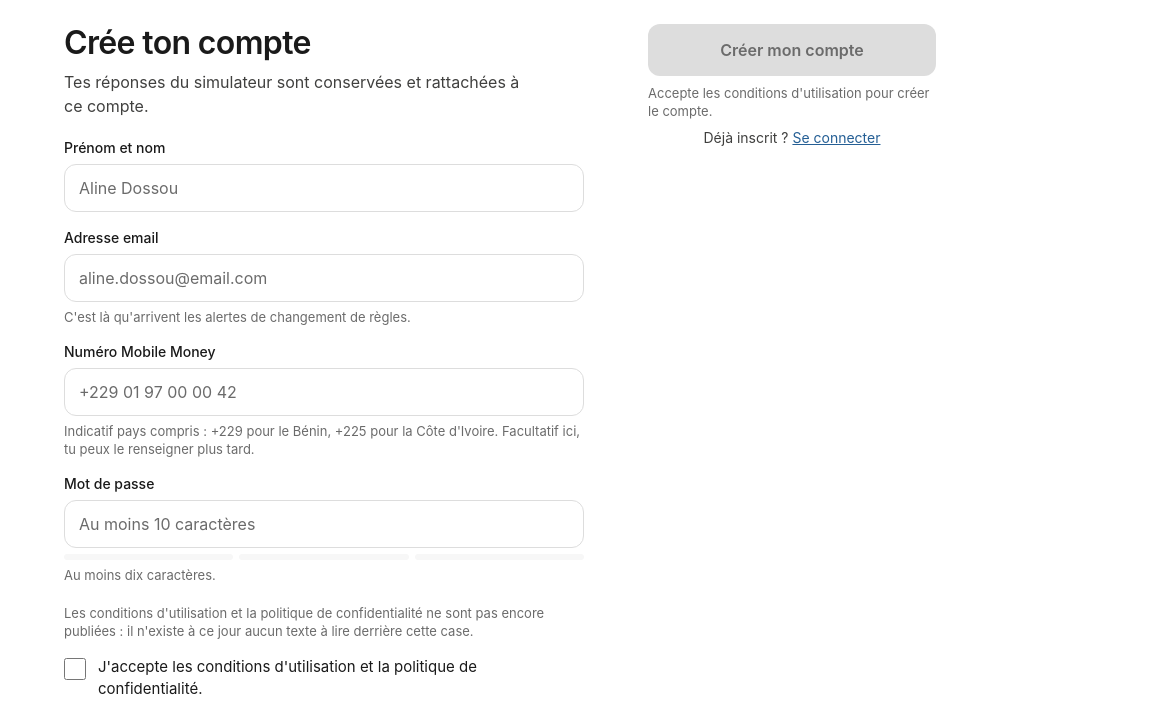
Test case: A-01 — Inscription › commente la force du mot de passe à la frappe
The width and height of the screenshot is (1152, 720).
In the password field labelled "Mot de passe": (324, 524) [64,500,584,548], type "abc"
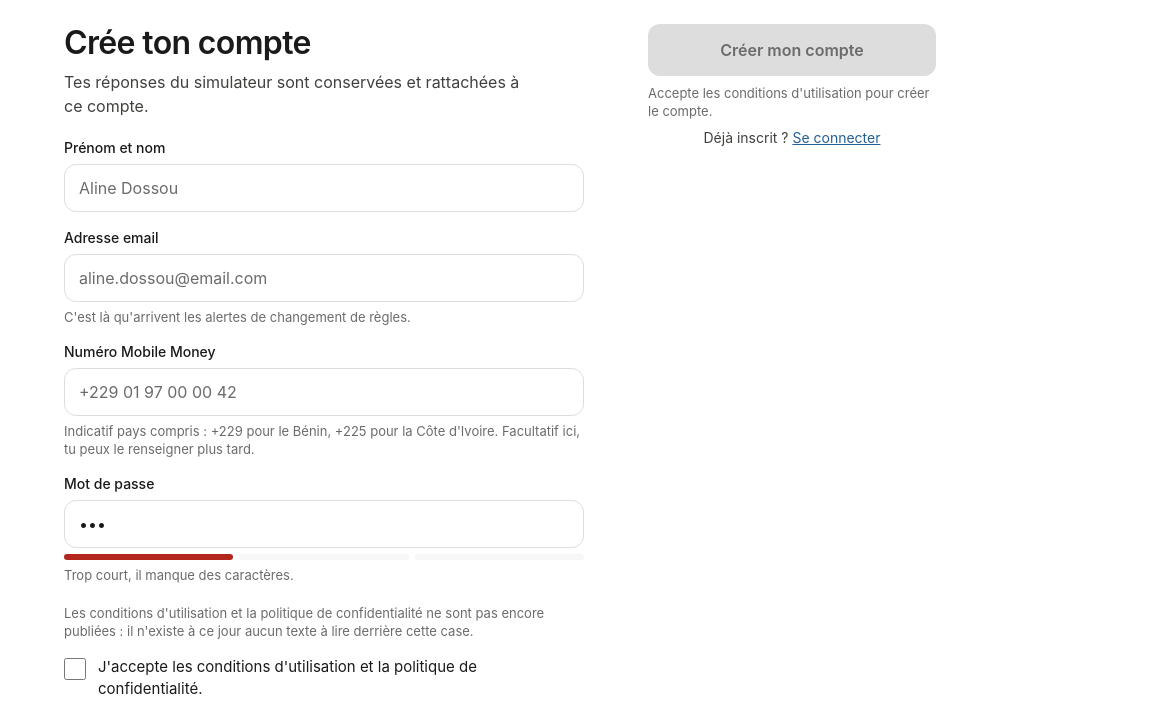
Expected: the text "Trop court, il manque des caractères." is shown, [64,567,294,583]
In the password field labelled "Mot de passe": (324, 524) [64,500,584,548], type "douze-caracteres"
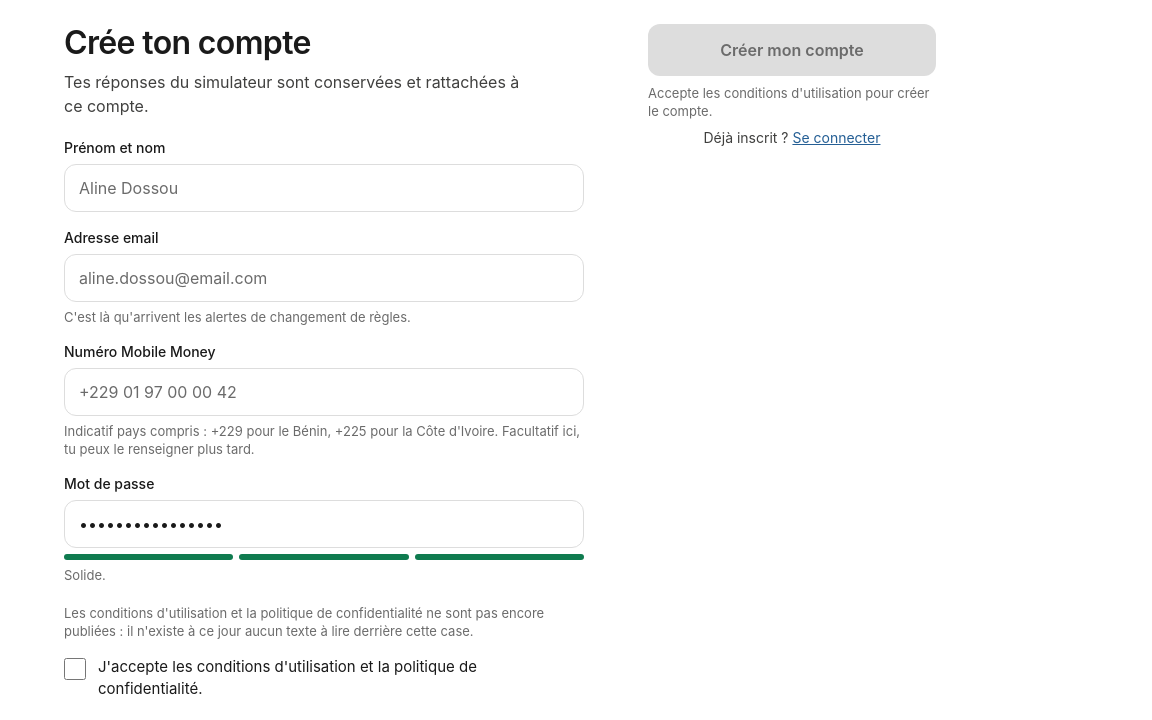
Expected: the text "Solide." is shown, [64,567,106,583]
